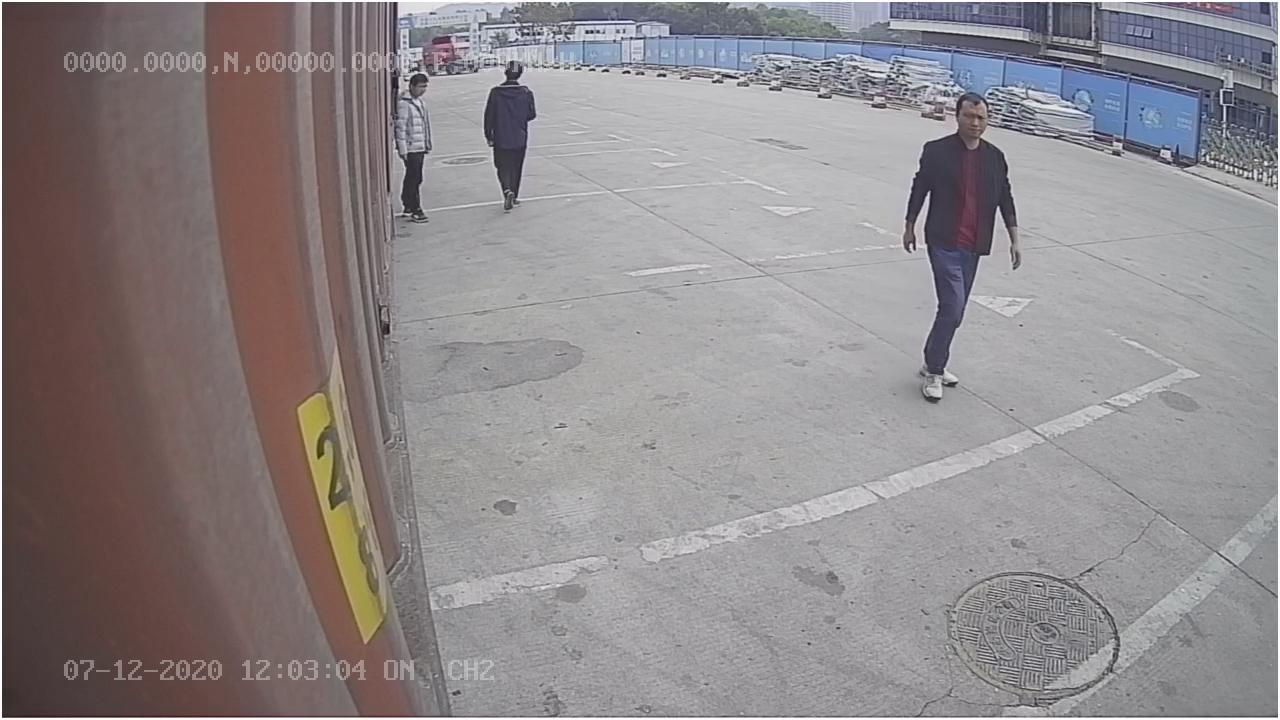person: (900, 83, 1027, 402)
